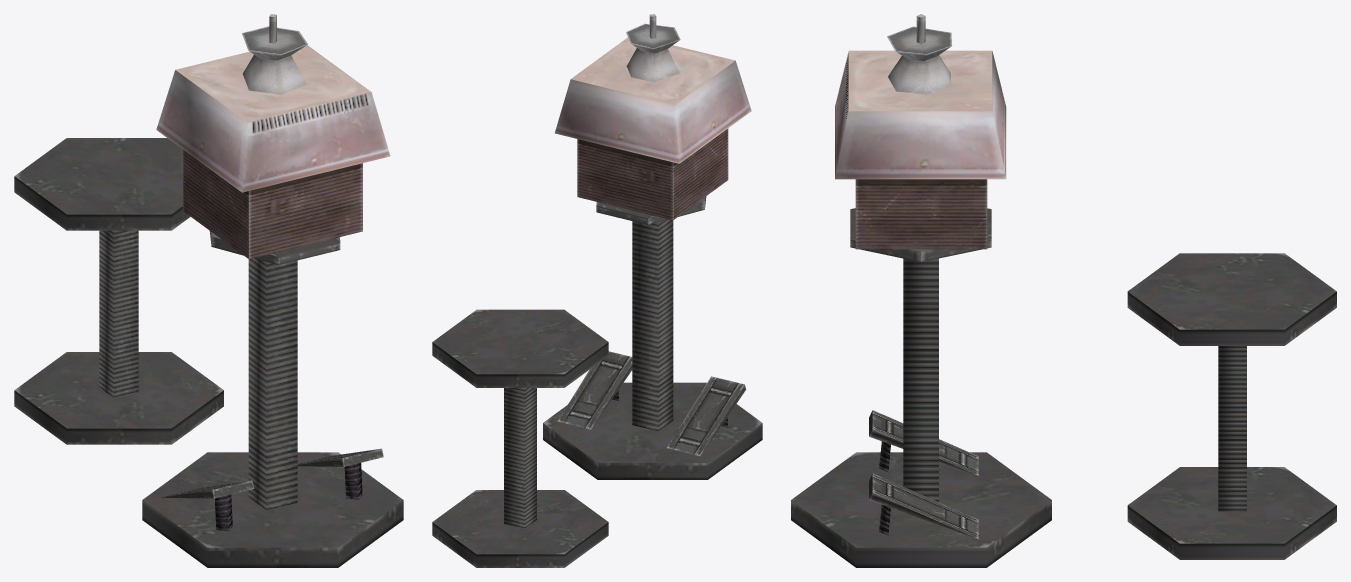
The model's file is eqp_music_ommni_box_l2.fbx.
3 views of the same model, side by side, from view 1: azimuth 30°, elevation 25°; view 2: azimuth 150°, elevation 25°; view 3: azimuth 270°, elevation 25° (orthographic). The views are drawn at different scales.
Parts seen in each view (by area): view 1: mesh_node; view 2: mesh_node; view 3: mesh_node.
Boxes of the visible parts, x1,y1,x2,y2 form: mesh_node: (14, 14, 403, 567); mesh_node: (432, 14, 762, 567); mesh_node: (791, 14, 1336, 567).
Size of the model in its own units: 0.3822 by 0.9459 by 0.9232.
